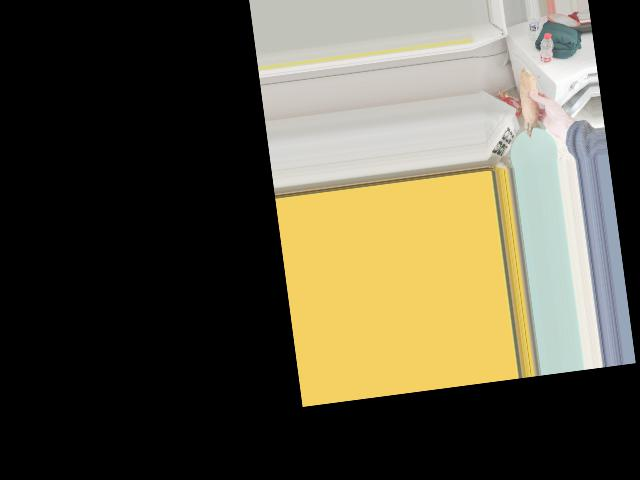sweet_potato: (516, 71, 548, 140)
